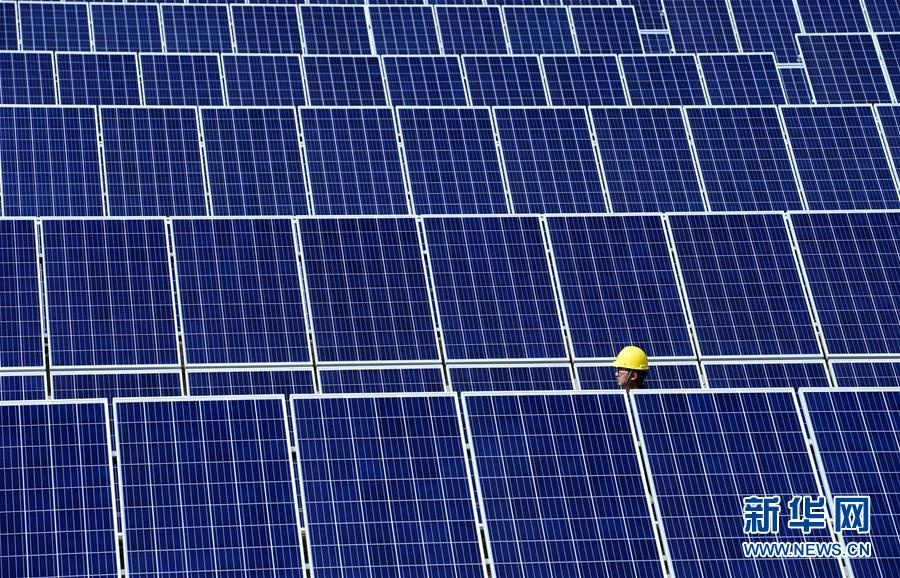yellow: (608, 342, 653, 394)
